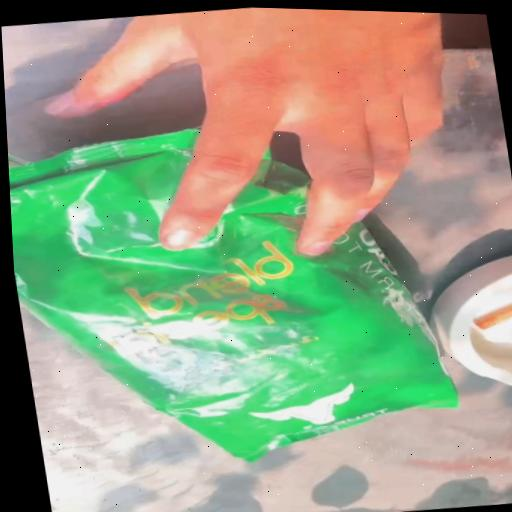cafe_xay: (9, 128, 455, 460)
